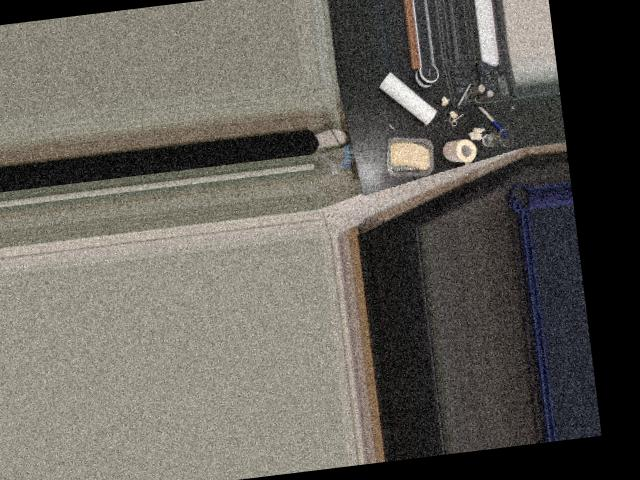cheese: (378, 130, 438, 182)
